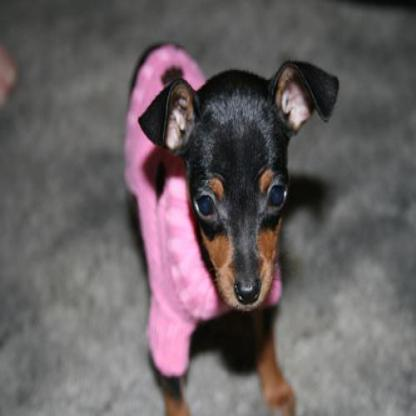miniature_pinscher: (122, 38, 340, 413)
